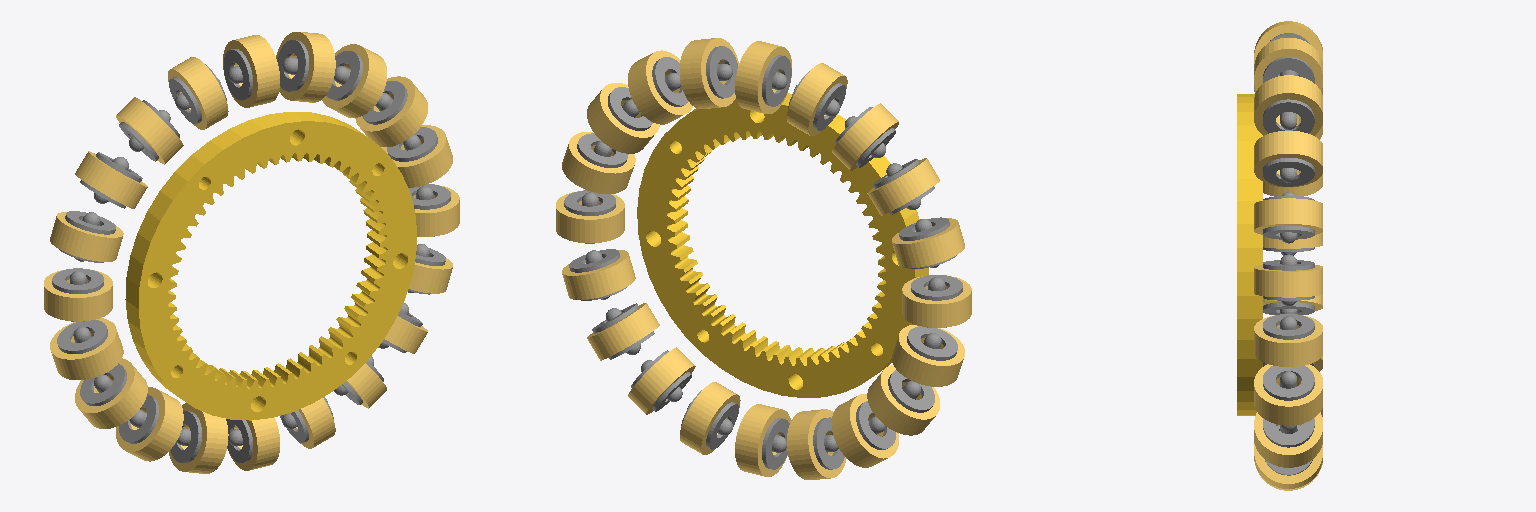
File: side.obj
3 renders of one model, left to right at view 1: azimuth 30°, elevation 25°; view 2: azimuth 150°, elevation 25°; view 3: azimuth 270°, elevation 25°, orthographic.
Parts seen in each view (by area): view 1: side; view 2: side; view 3: side.
Boxes of the visible parts, box(x1,y1,x2,y2) form: side: box(44, 32, 459, 473); side: box(556, 38, 971, 479); side: box(1237, 21, 1322, 490).
Bounding box in the file's own units: 0.054 × 0.054 × 0.01.